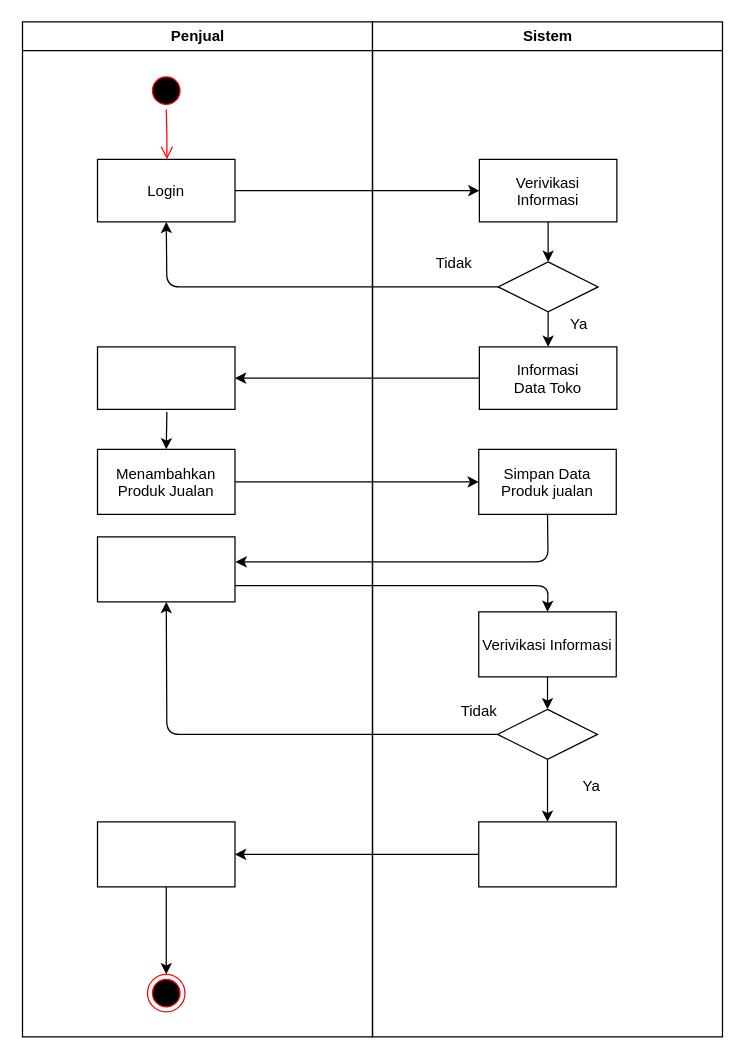
The diagram is 744 pixels wide and 1059 high, and some of its shapes have lost their labels. The centre of each missing label's shape, as x and y in pixels:
"Menampilkan Data Produk Penjualan" belongs at [165,377].
"Menjual Produk" belongs at [165,569].
"Pengiriman Barang" belongs at [165,854].
"Sudah menerima pembayaran" belongs at [547,854].
